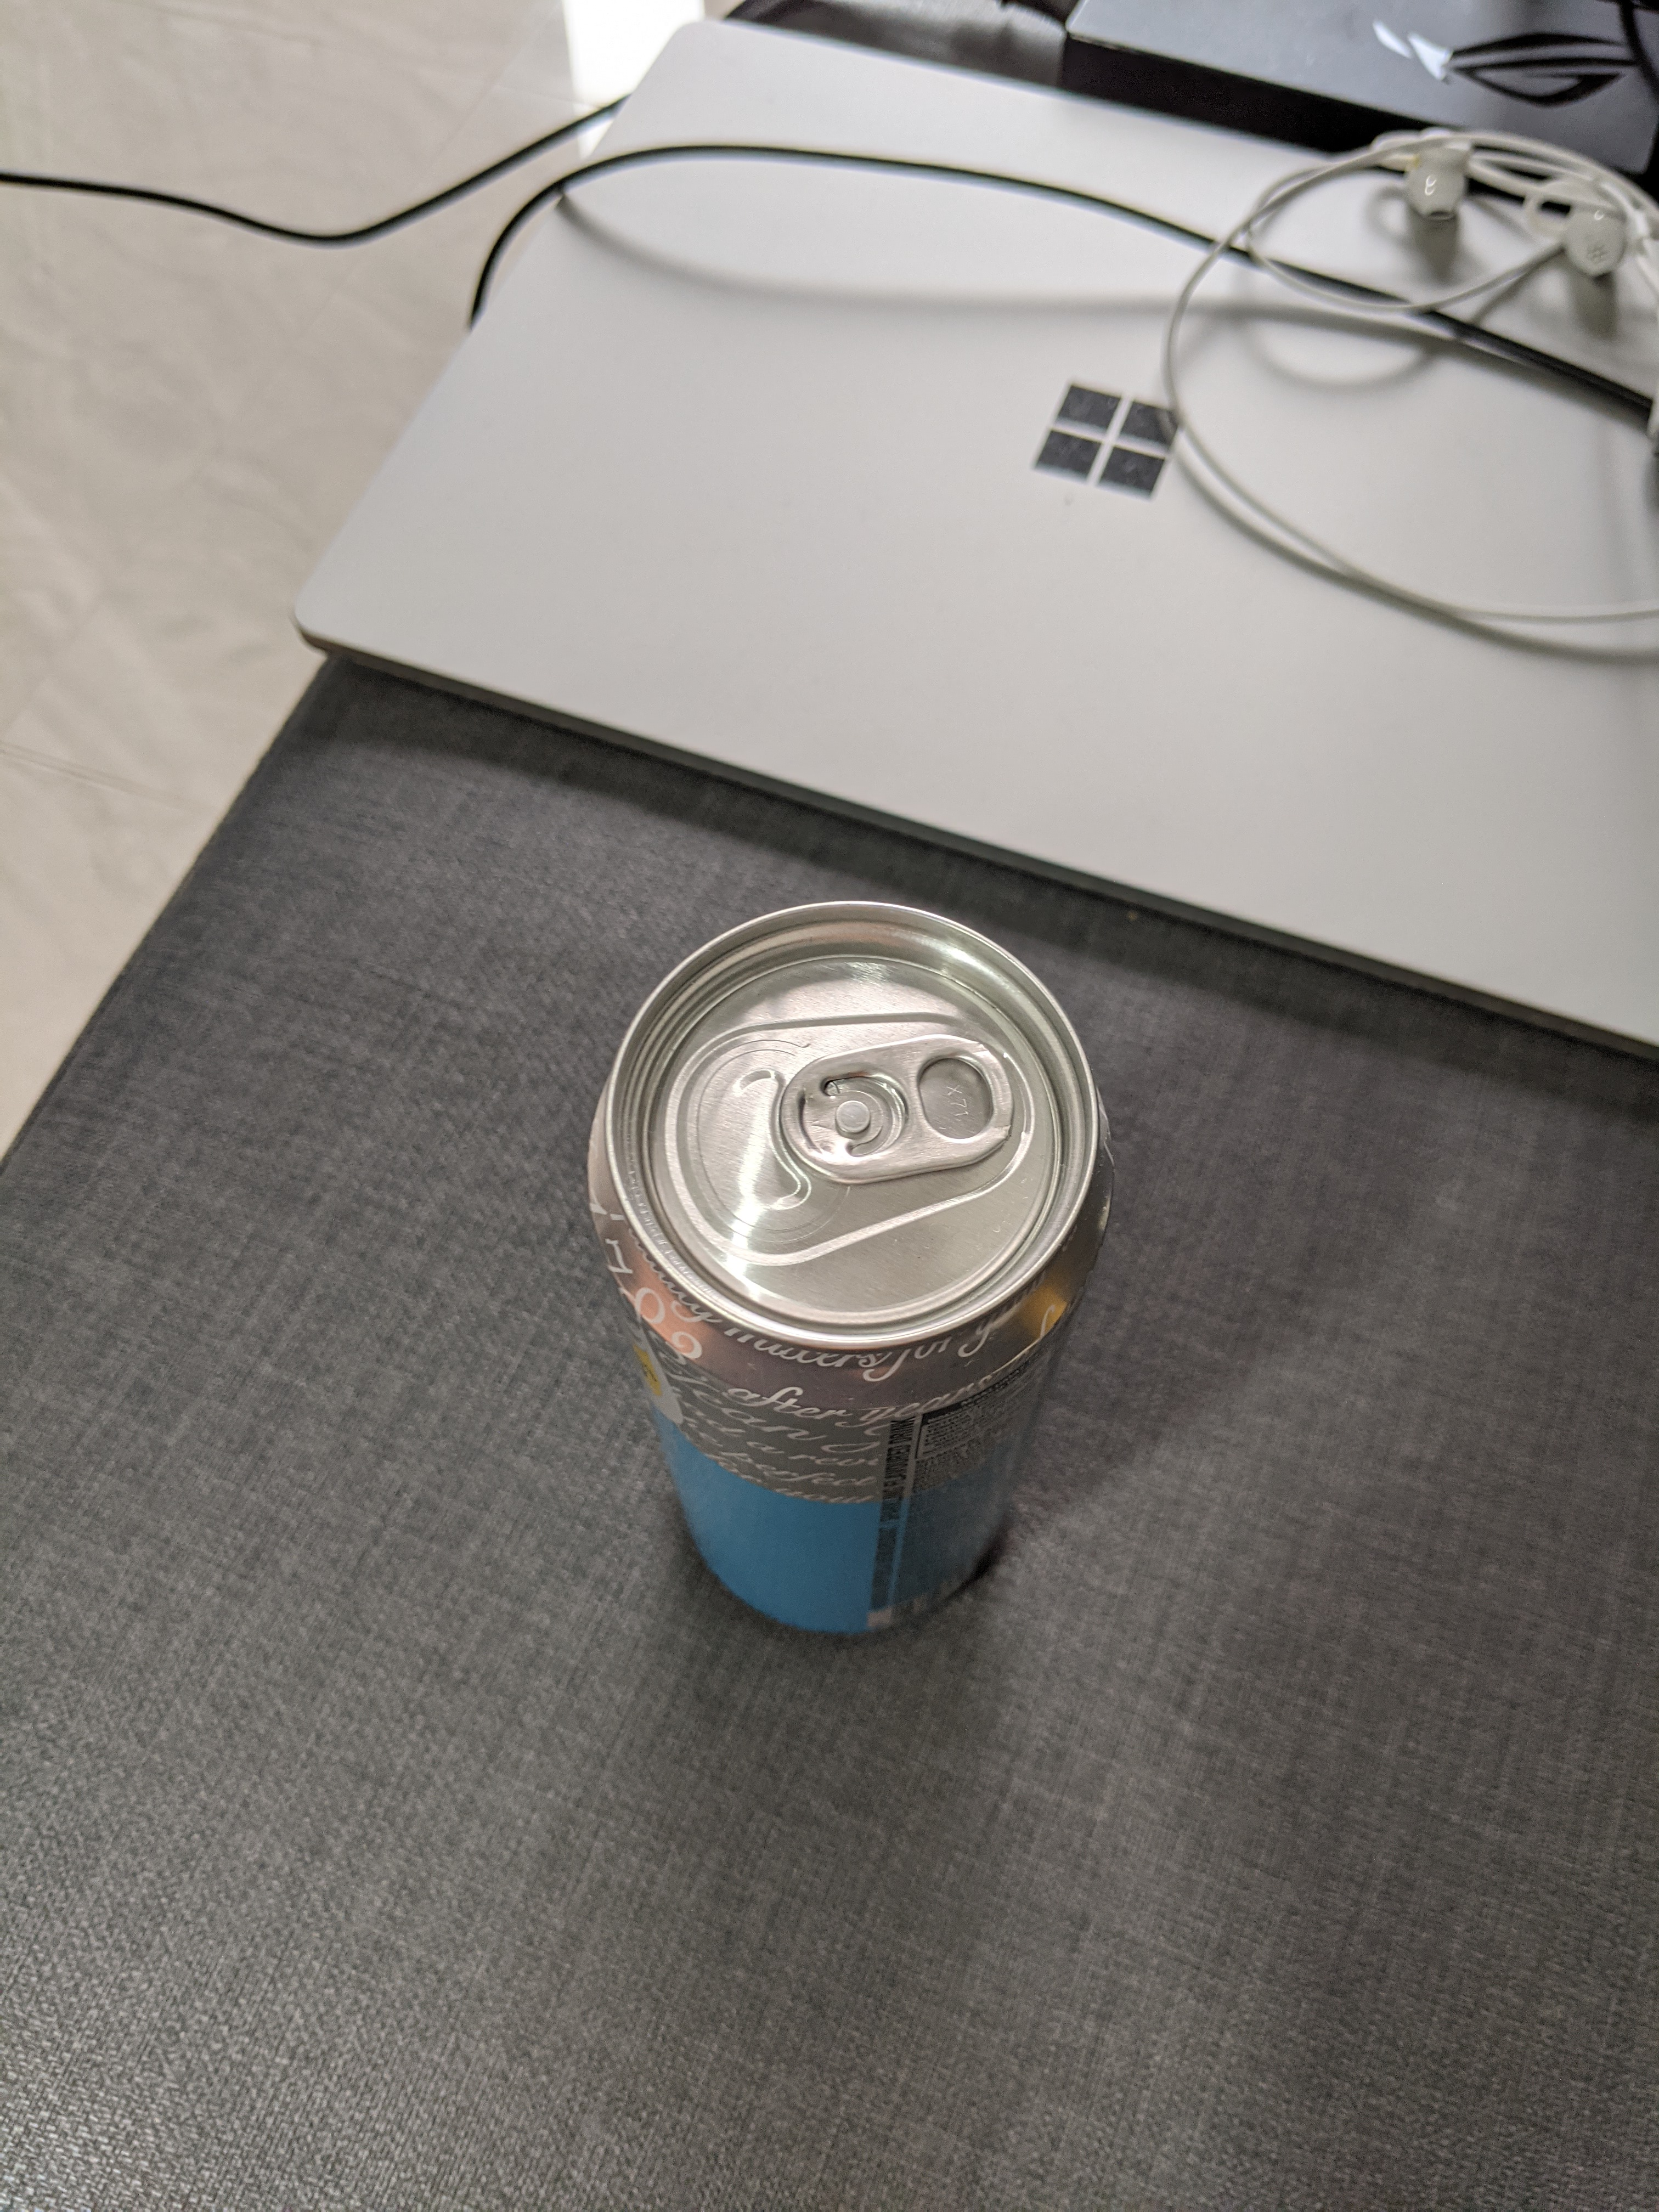schweppes drink can bitter lemon: (572, 881, 1127, 1669)
